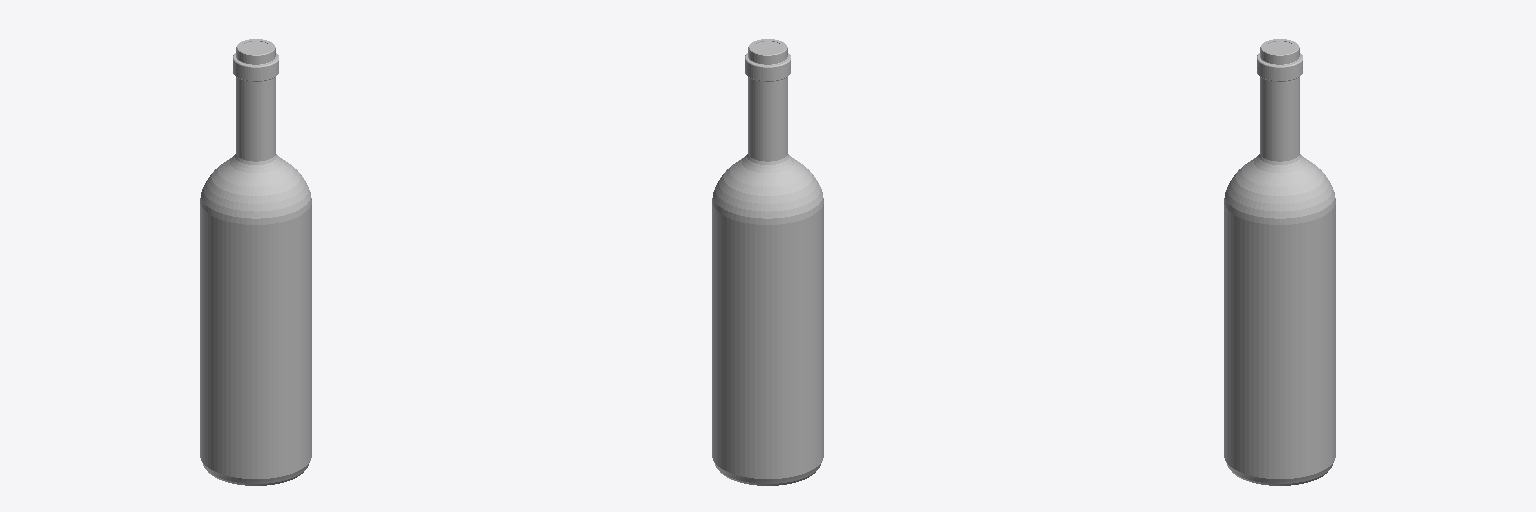
Rendered from wine_bottle.obj.
3 renders of one model, left to right at view 1: azimuth 30°, elevation 25°; view 2: azimuth 150°, elevation 25°; view 3: azimuth 270°, elevation 25°, orthographic.
Visible parts, largest first — view 1: Cylinder; view 2: Cylinder; view 3: Cylinder.
Boxes of the visible parts, box(x1,y1,x2,y2) form: Cylinder: box(200, 39, 311, 485); Cylinder: box(712, 39, 823, 485); Cylinder: box(1224, 39, 1335, 485).
Bounding box in the file's own units: 2 × 8.26 × 2.